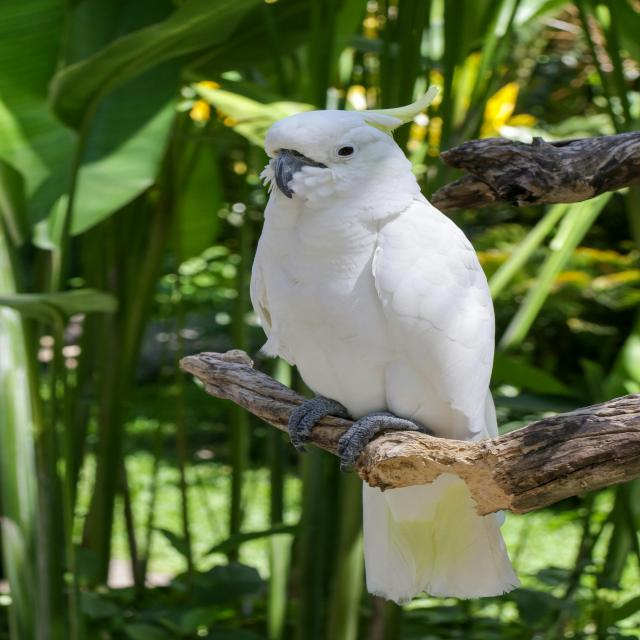Kakatua Putih: (225, 79, 534, 620)
